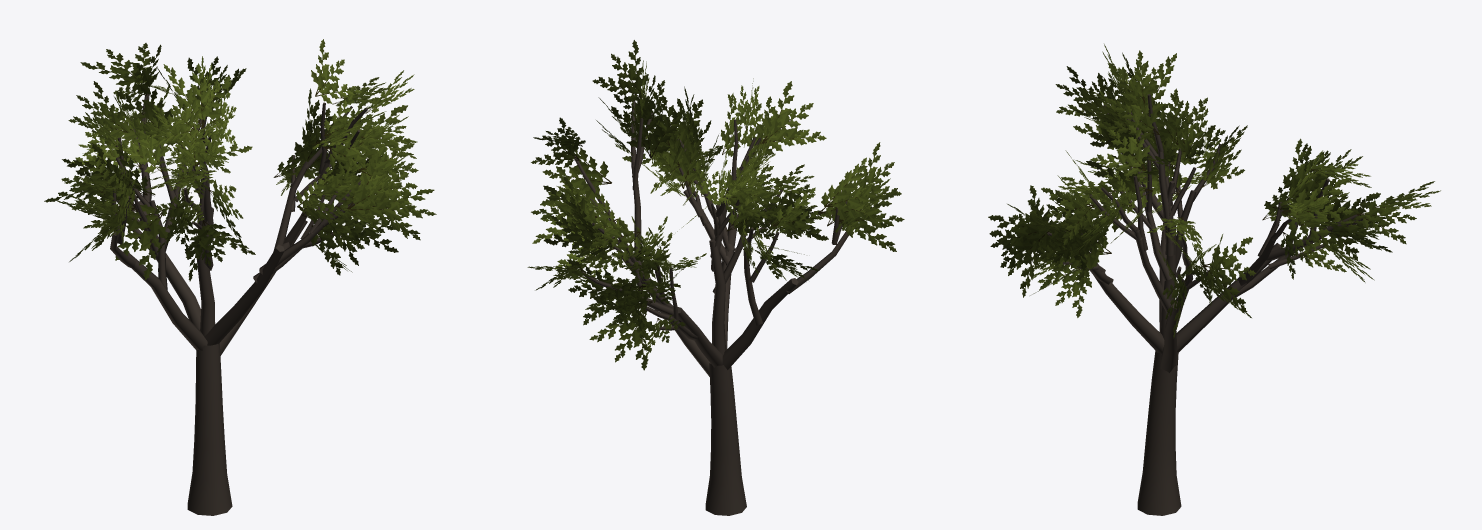
Rendered from oak_1_burnt2.glb.
3 renders of one model, left to right at view 1: azimuth 30°, elevation 25°; view 2: azimuth 150°, elevation 25°; view 3: azimuth 270°, elevation 25°, orthographic. The views are drawn at different scales.
Visible parts, largest first — view 1: oak_1_burnt2; view 2: oak_1_burnt2; view 3: oak_1_burnt2.
Part boxes in pixels (left/top/right/bottom): oak_1_burnt2: left=44, top=39, right=436, bottom=515; oak_1_burnt2: left=527, top=40, right=904, bottom=515; oak_1_burnt2: left=988, top=44, right=1440, bottom=515.
Bounding box in the file's own units: 9.08 × 10.09 × 9.86.
2 materials, 1 textured.
